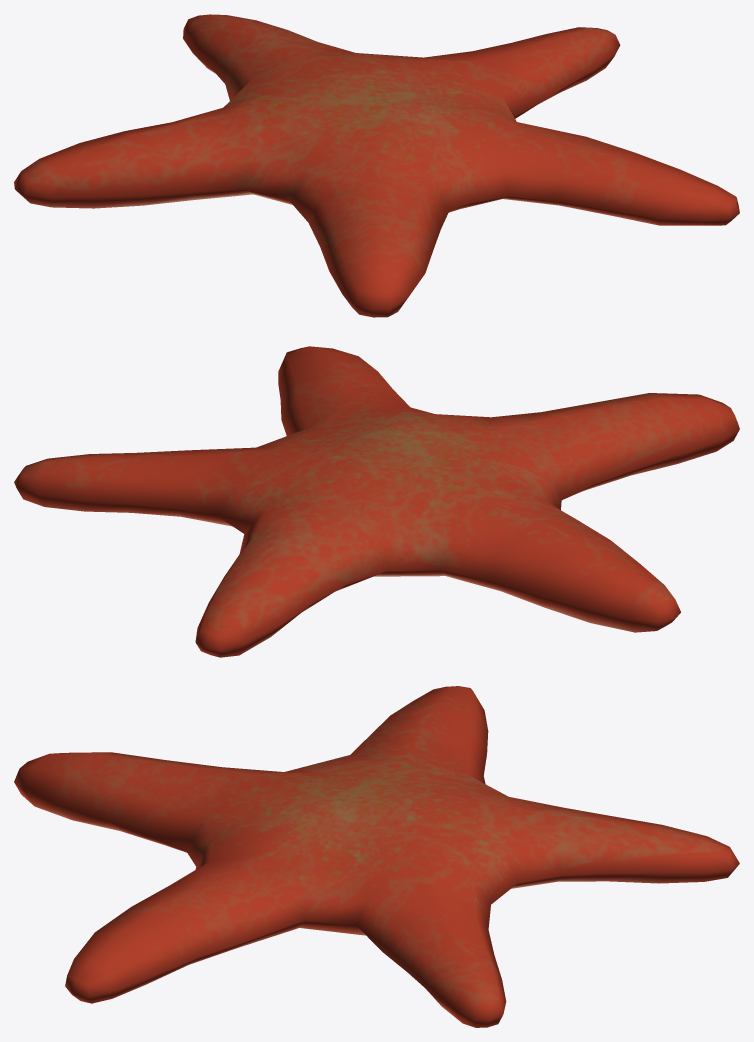
File: SSSS.fbx
The picture shows the model from 3 angles, top to bottom: view 1: azimuth 30°, elevation 25°; view 2: azimuth 150°, elevation 25°; view 3: azimuth 270°, elevation 25°; orthographic projection. The views are drawn at different scales.
Visible parts, largest first — view 1: LP; view 2: LP; view 3: LP.
Part boxes in pixels (x1,y1,x2,y2): LP: (14, 14, 739, 317); LP: (14, 346, 739, 657); LP: (14, 686, 739, 1027).
Size of the model in its own units: 8.18 by 1.07 by 8.
